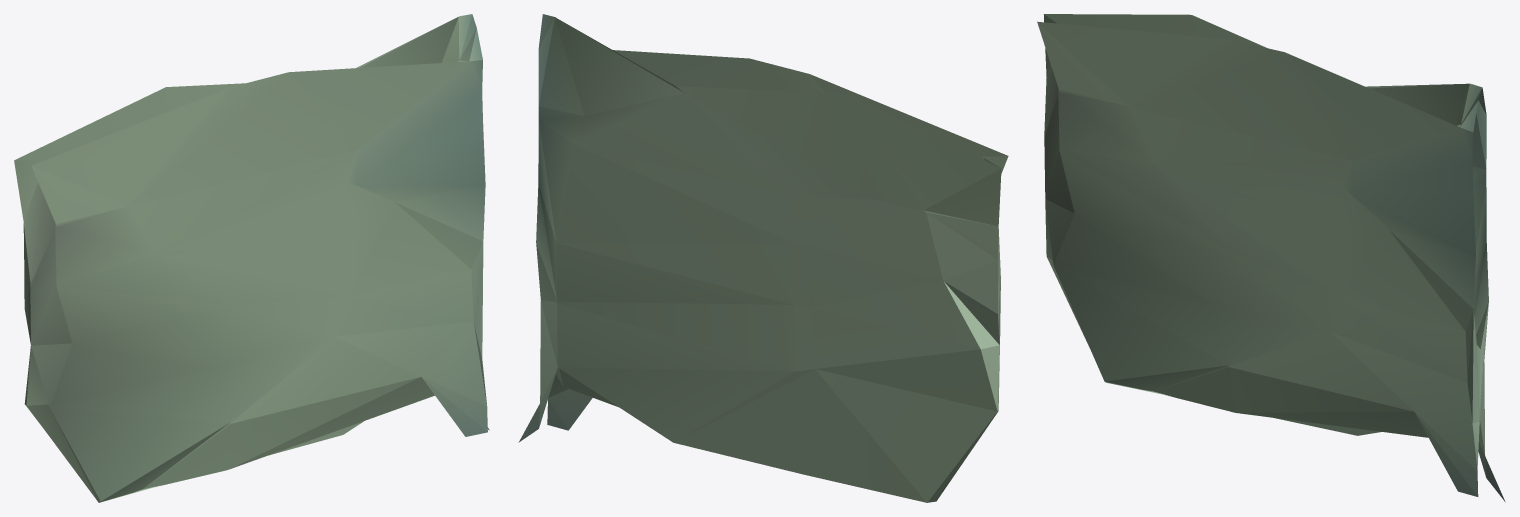
3 views of the same model, side by side, from view 1: azimuth 30°, elevation 25°; view 2: azimuth 150°, elevation 25°; view 3: azimuth 330°, elevation 25° (orthographic). The views are drawn at different scales.
Bounding box in the file's own units: 1.91 × 1.63 × 0.1.
